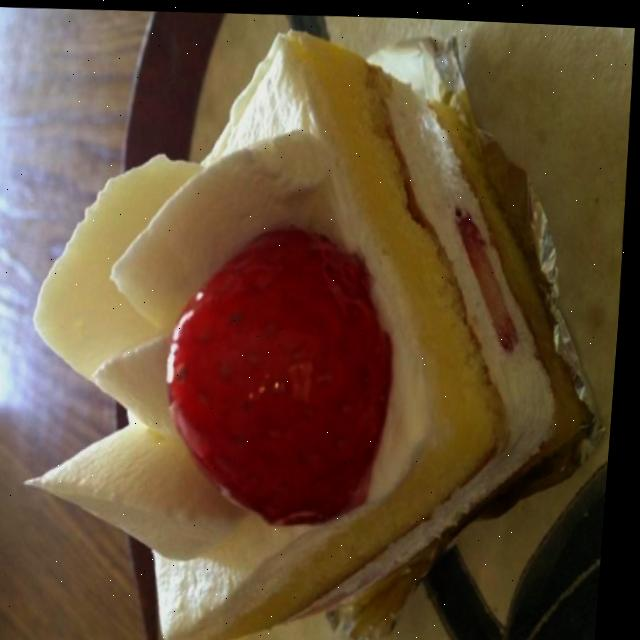蛋糕甜品: (0, 17, 630, 640)
